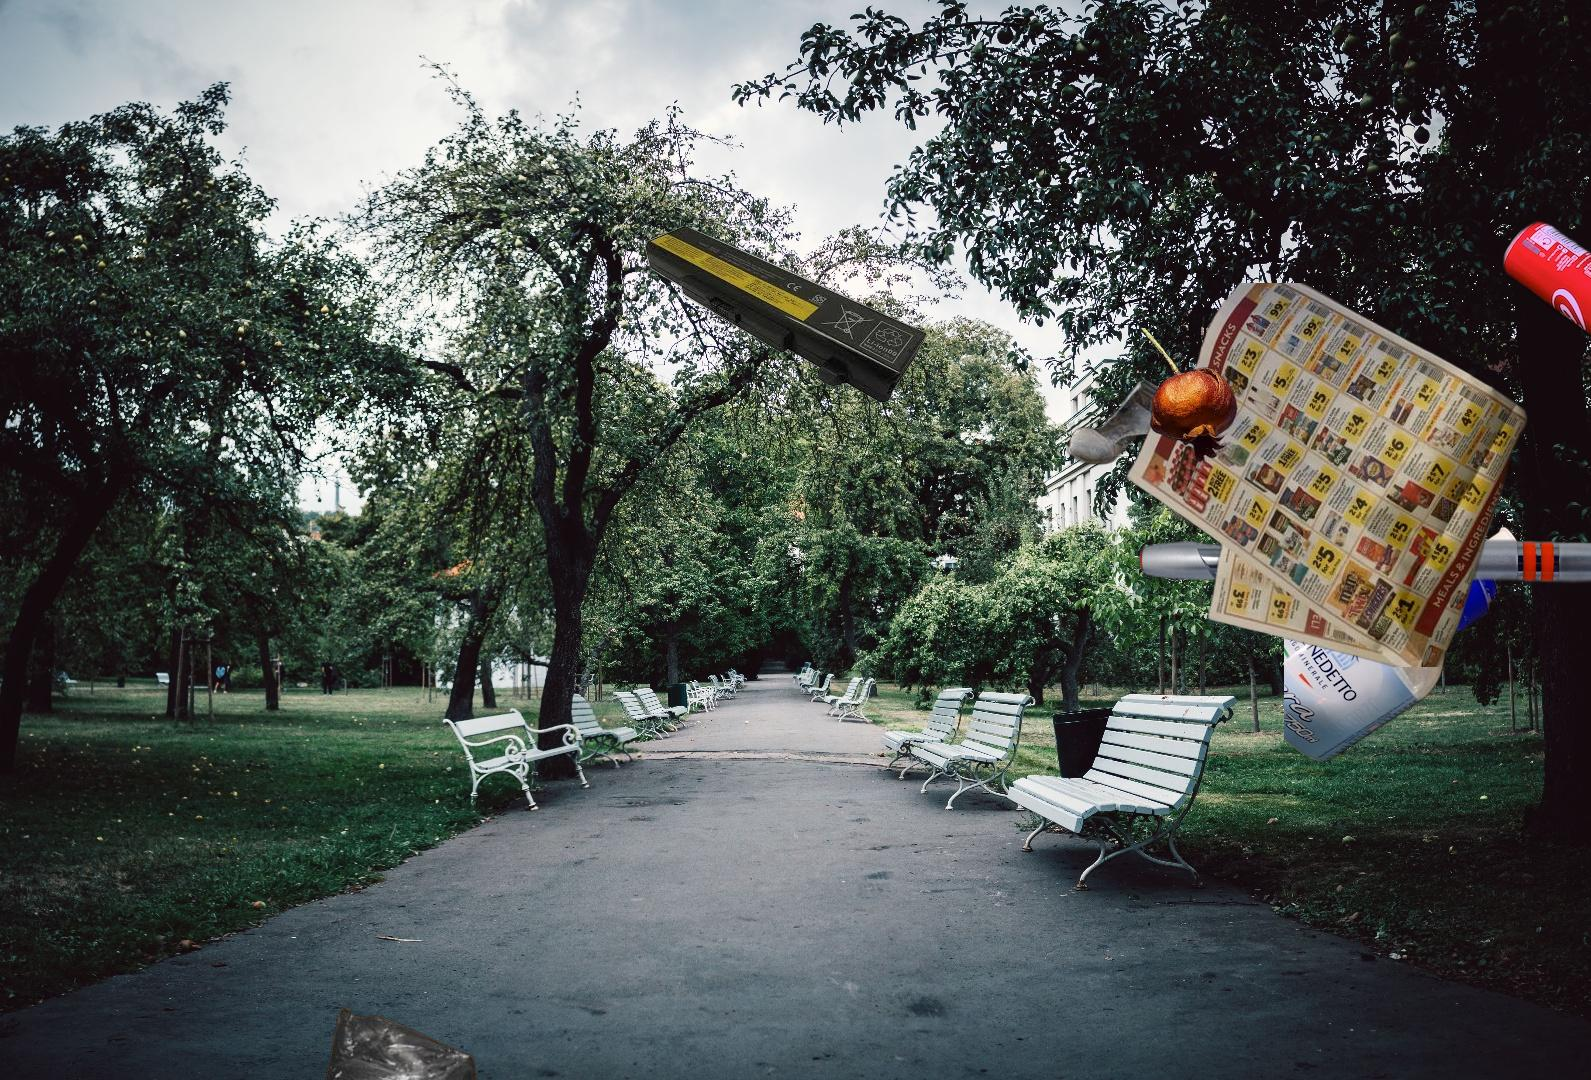battery: (645, 225, 928, 403)
biological: (1137, 328, 1240, 465)
metal-cans: (1499, 215, 1591, 369)
paper: (1122, 283, 1532, 667)
penholder: (1044, 306, 1591, 804)
plastic-bag: (324, 1004, 503, 1080)
plastic-bottles: (1284, 522, 1527, 767)
shoes: (1062, 375, 1332, 548)
